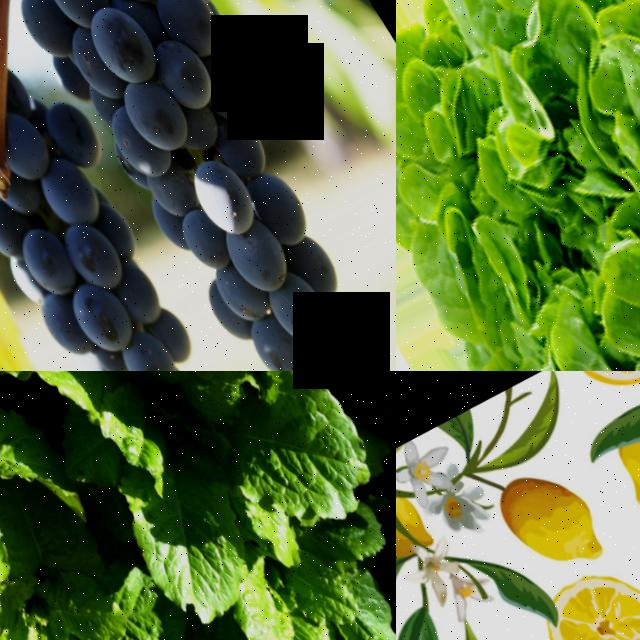grapes: (0, 0, 396, 371), (0, 168, 239, 371)
lemon: (481, 449, 617, 586), (515, 549, 640, 640), (597, 393, 640, 515), (564, 371, 640, 404)
lettuce: (396, 0, 640, 371), (0, 385, 343, 640), (114, 371, 396, 566), (250, 412, 396, 640)
